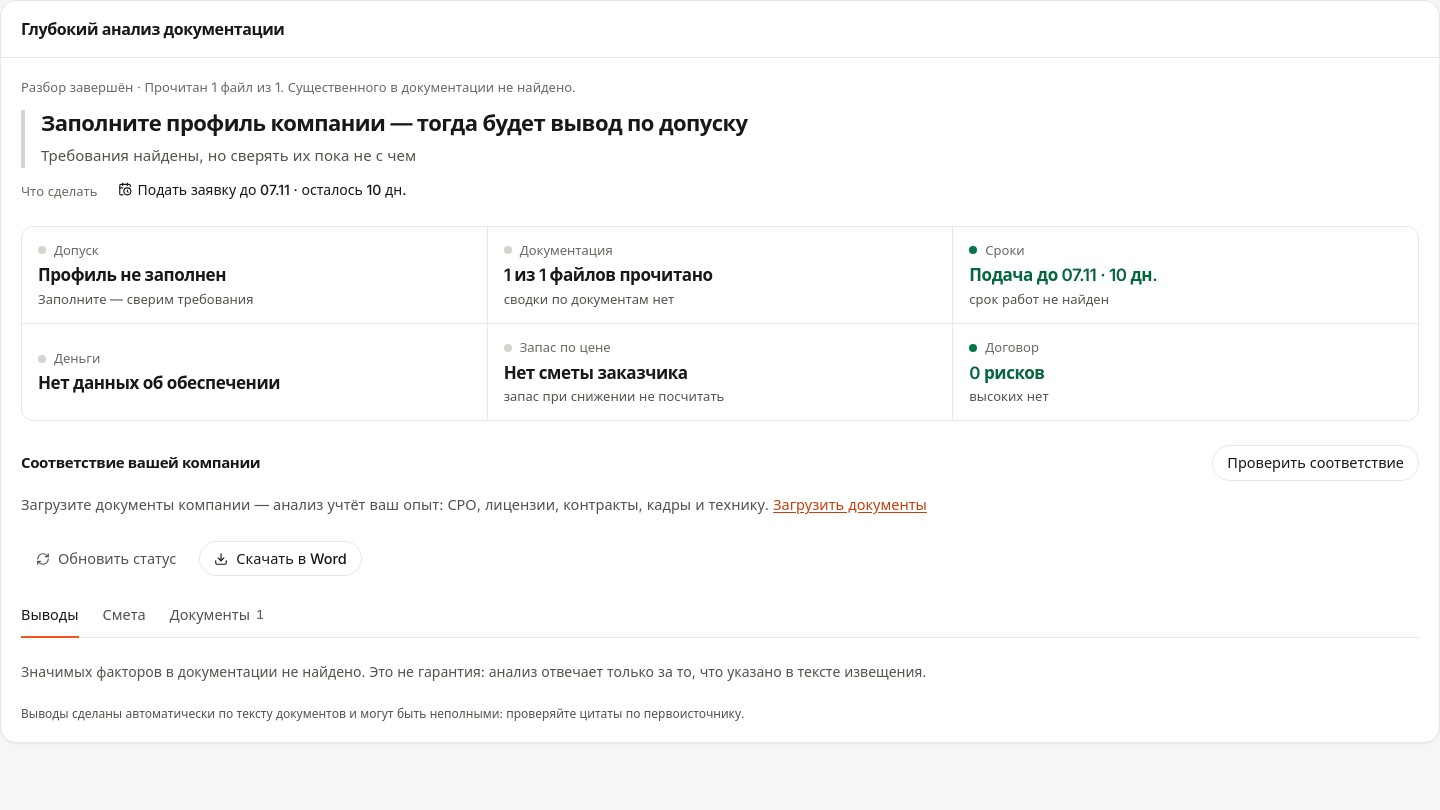
Test case: DeepAnalysisPanel: ценовая зона расчёта › зона закупки не собрана — сообщение воркера, а кнопка остаётся доступной
Click the tab "Смета" at coordinates (124, 619), box [102,600,146,638]
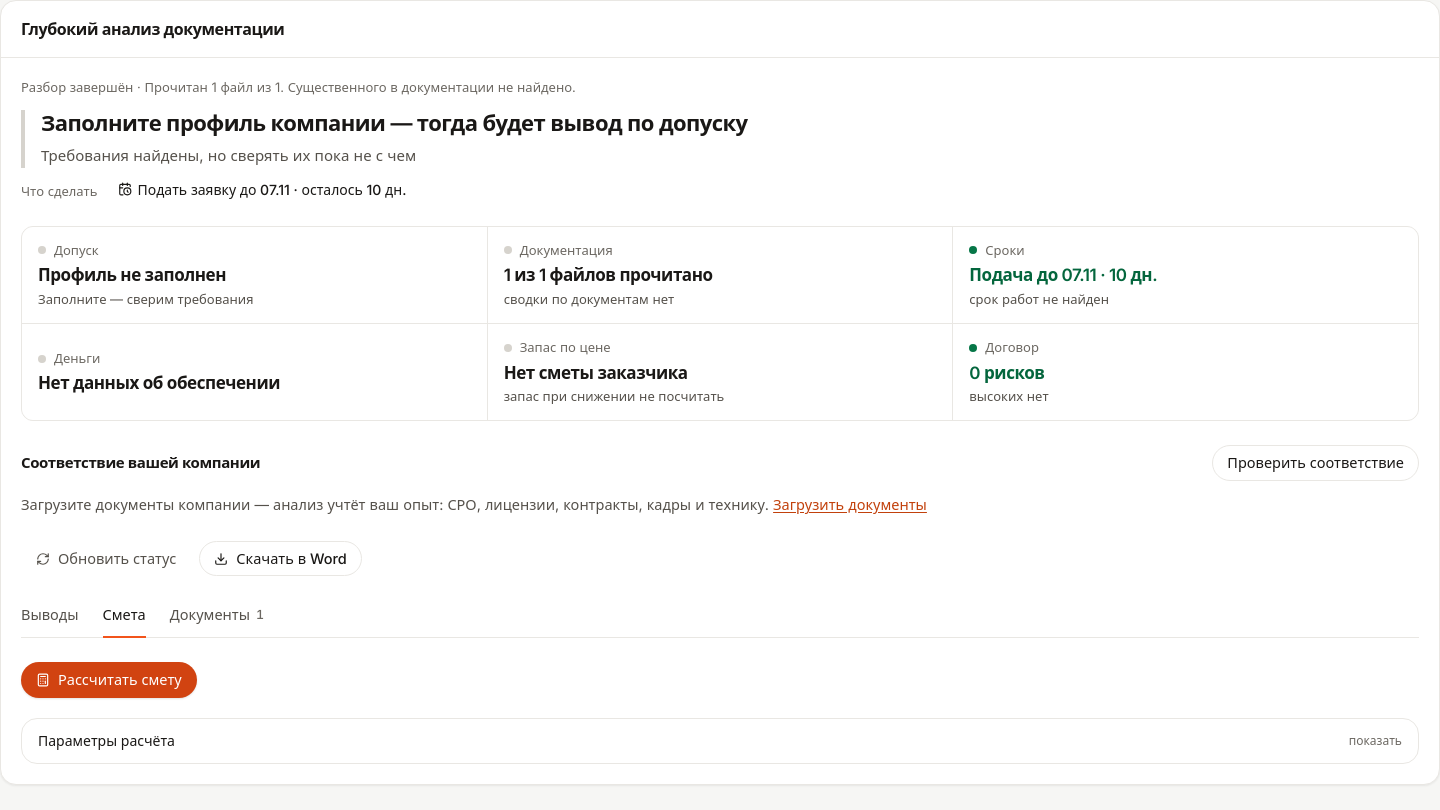
Check: the button "Рассчитать смету" is enabled, box [21,662,197,698]
